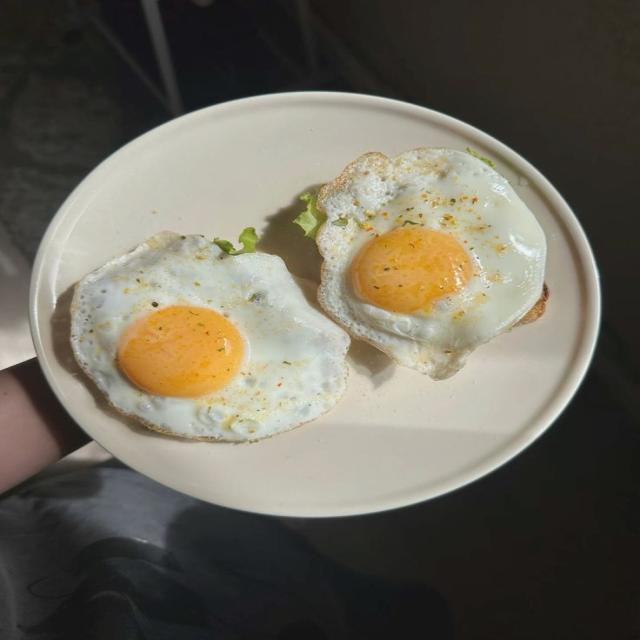lettuce: (293, 192, 325, 238), (214, 227, 257, 254)
